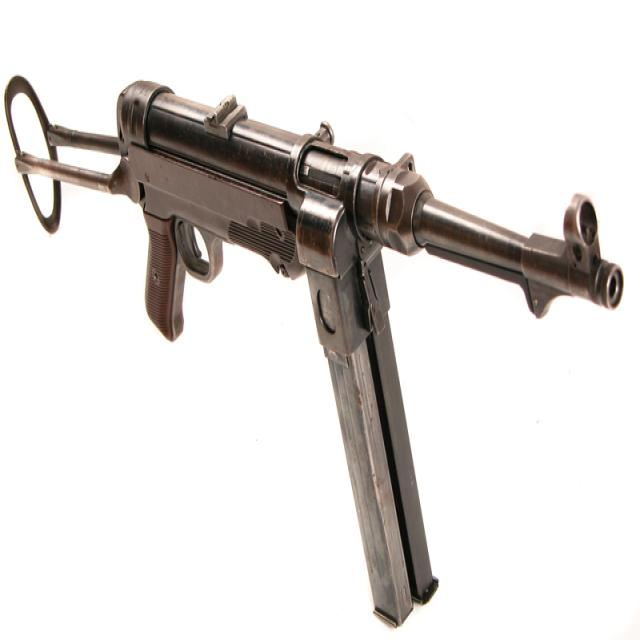SMG: (4, 77, 625, 631)
